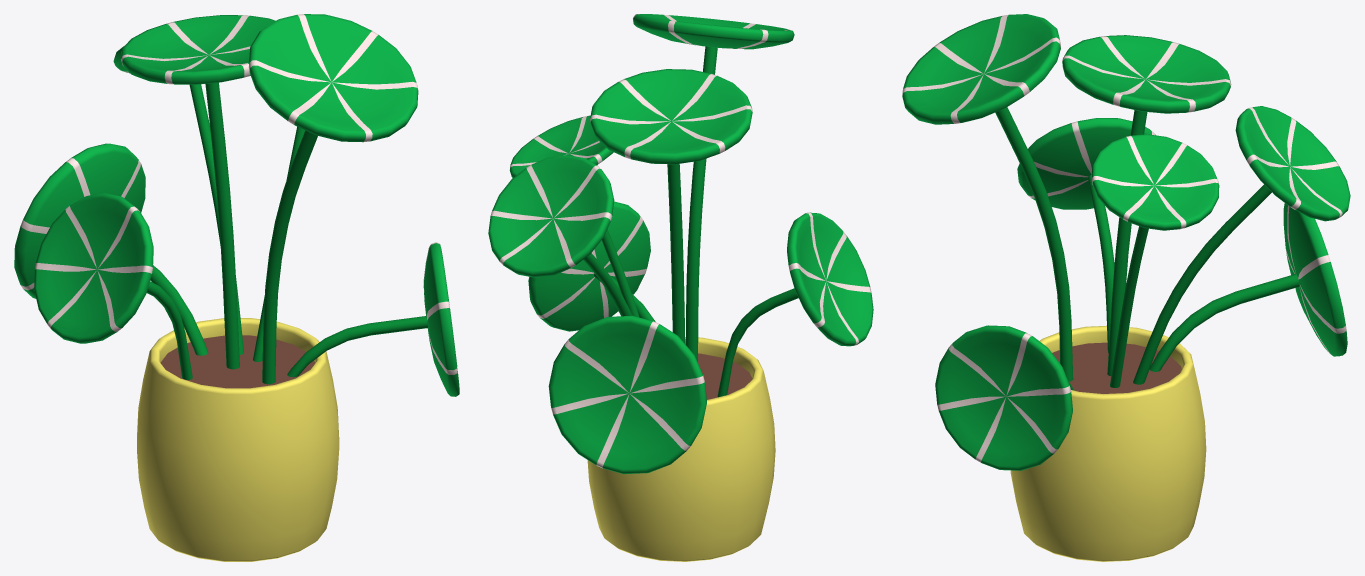
File: Store_4_Plant_1.glb
3 views of the same model, side by side, from view 1: azimuth 30°, elevation 25°; view 2: azimuth 150°, elevation 25°; view 3: azimuth 270°, elevation 25° (orthographic). The views are drawn at different scales.
Parts seen in each view (by area): view 1: Store_4_Plant_1; view 2: Store_4_Plant_1; view 3: Store_4_Plant_1.
Boxes of the visible parts, x1=… form: Store_4_Plant_1: x1=14, y1=14, x2=459, y2=561; Store_4_Plant_1: x1=488, y1=14, x2=873, y2=561; Store_4_Plant_1: x1=902, y1=14, x2=1350, y2=561.
Bounding box in the file's own units: 1.15 × 1.52 × 1.22.
1 material, 1 textured.
